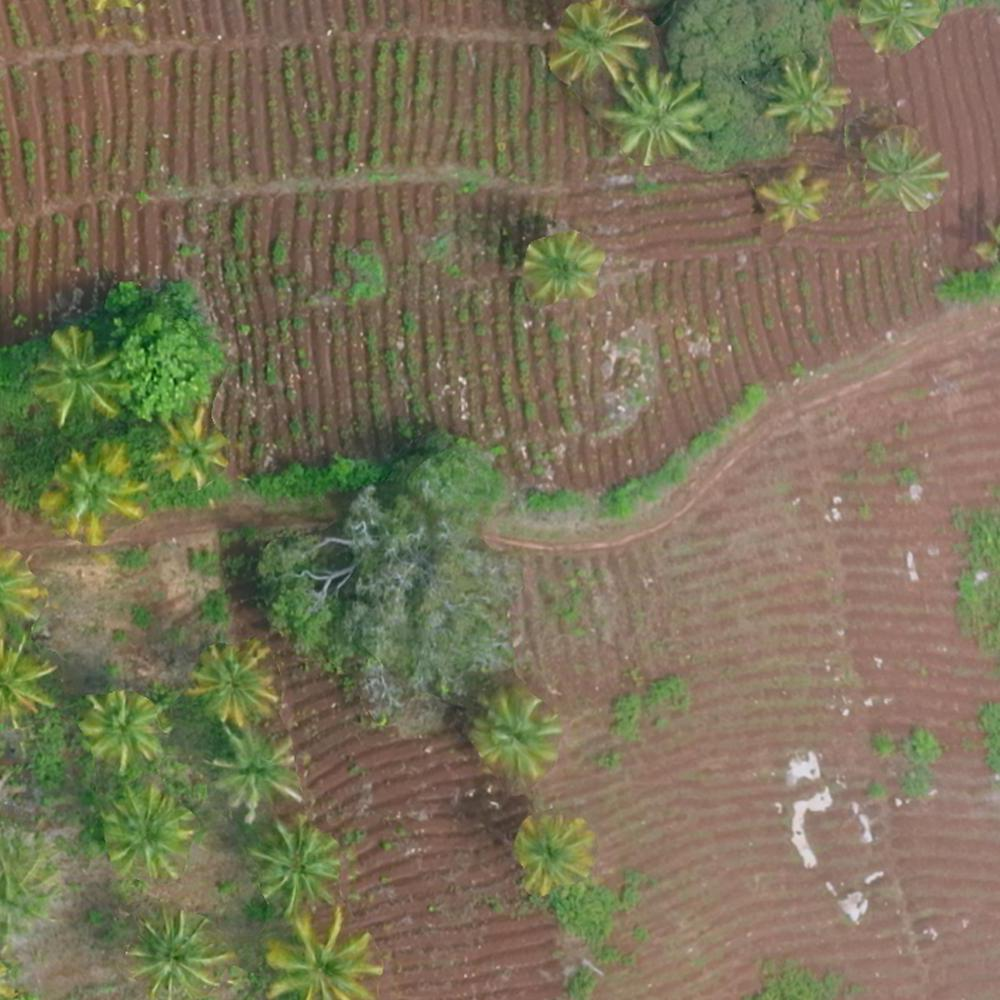Palm: (266, 913, 377, 1000), (43, 445, 137, 543), (605, 66, 702, 159), (101, 784, 194, 879), (127, 910, 226, 995), (35, 327, 128, 412), (213, 725, 301, 812), (190, 640, 279, 726), (477, 685, 559, 777), (252, 822, 340, 907), (550, 6, 648, 82), (859, 131, 946, 212), (765, 60, 850, 138), (79, 694, 164, 771), (511, 812, 592, 892), (526, 231, 601, 295), (157, 414, 226, 483), (759, 165, 827, 227)
